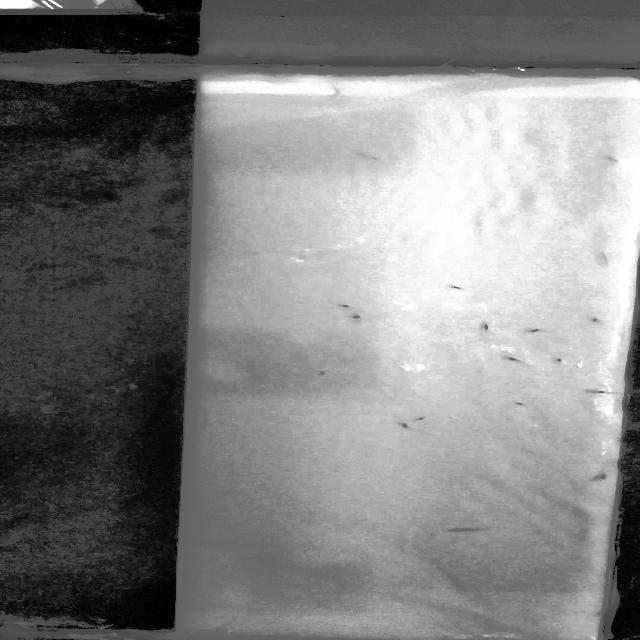shrimp: (451, 529, 504, 536), (505, 352, 528, 366), (581, 388, 614, 396), (552, 355, 570, 366), (396, 422, 415, 432), (346, 313, 364, 322), (480, 318, 492, 331), (510, 401, 532, 408), (526, 328, 543, 336), (416, 413, 428, 424), (598, 470, 611, 480), (448, 285, 466, 292), (340, 303, 356, 310), (316, 371, 330, 376), (587, 318, 603, 322)
